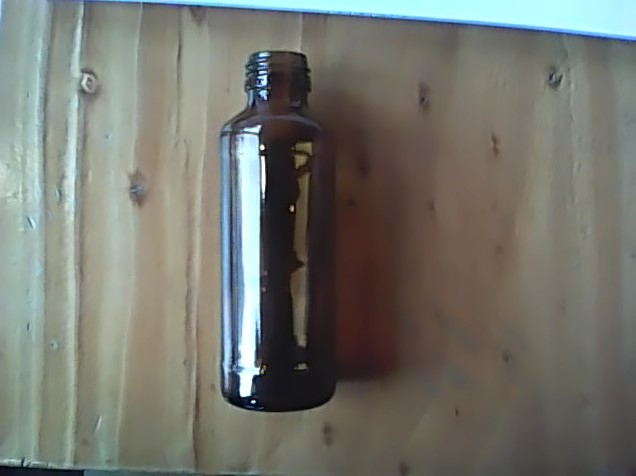Glass: (215, 41, 339, 418)
